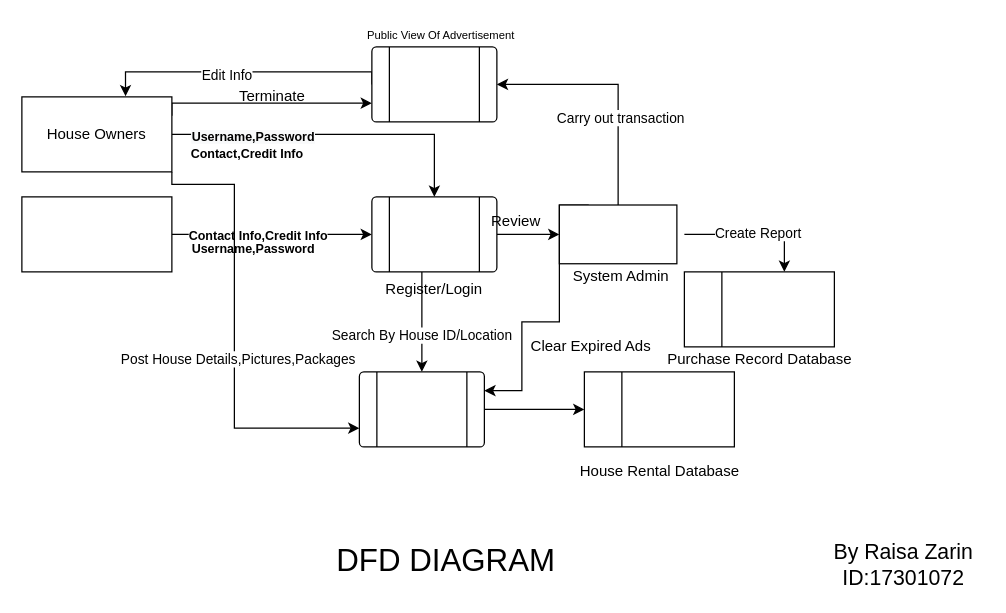
Some shapes in this 1006 by 613 pixel diagram are drawn without their labels. The shapes that lost their labels are listed below. From the top down, each one's centre as x and y in pixels, then its label:
the point at 96,234: House Seekers/Travelers
the point at 421,409: Rental Advertisements
